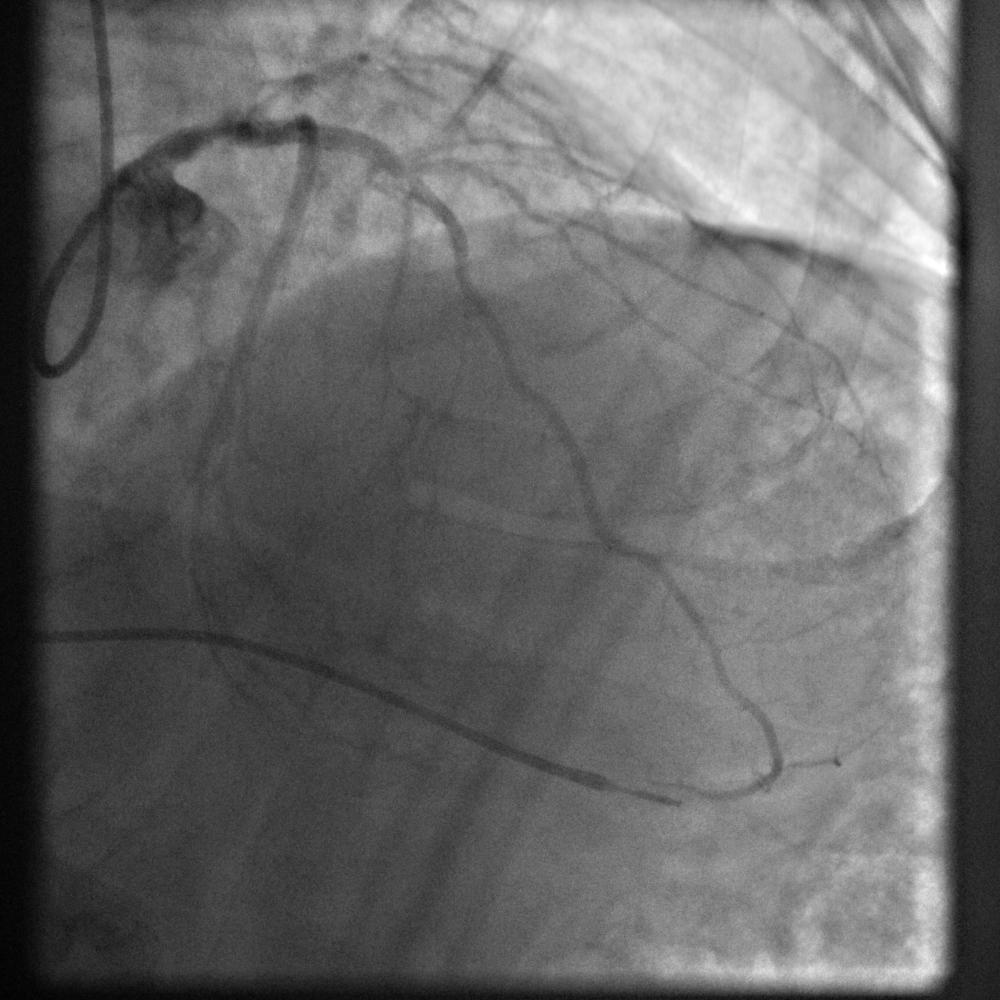Stenosis: (381, 153, 447, 195)
